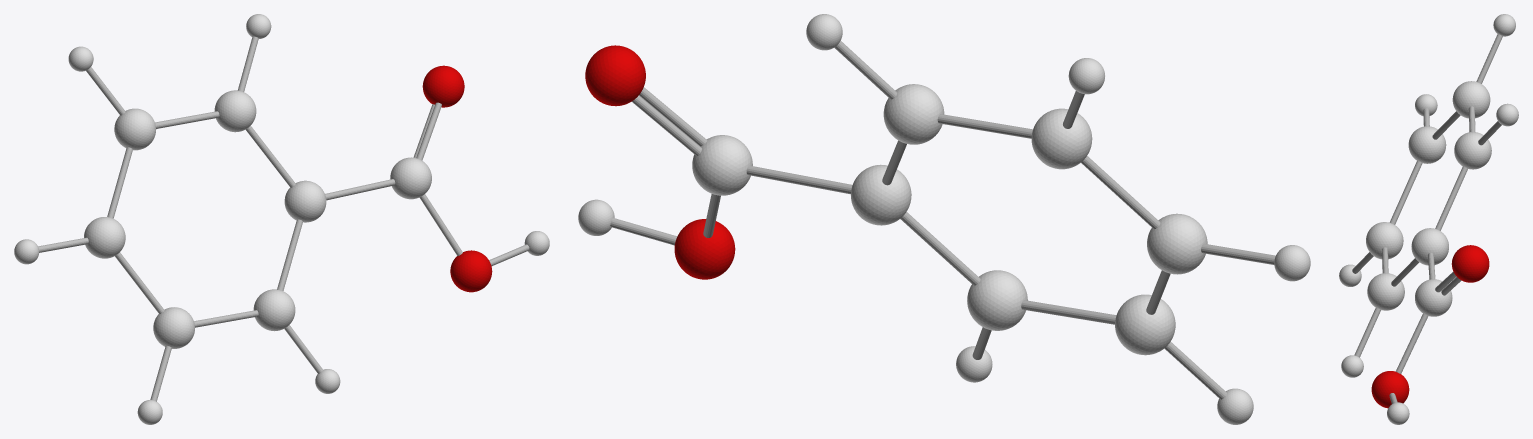
The model's file is O_C_O_c1ccccc1.glb.
The picture shows the model from 3 angles, left to right: view 1: azimuth 30°, elevation 25°; view 2: azimuth 150°, elevation 25°; view 3: azimuth 270°, elevation 25°; orthographic projection. The views are drawn at different scales.
Parts seen in each view (by area): view 1: world; view 2: world; view 3: world.
Part boxes in pixels (x1,y1,x2,y2): world: (14,14,549,424); world: (578,14,1310,424); world: (1339,14,1518,424).
Bounding box in the file's own units: 7.12 × 4.25 × 2.39.
